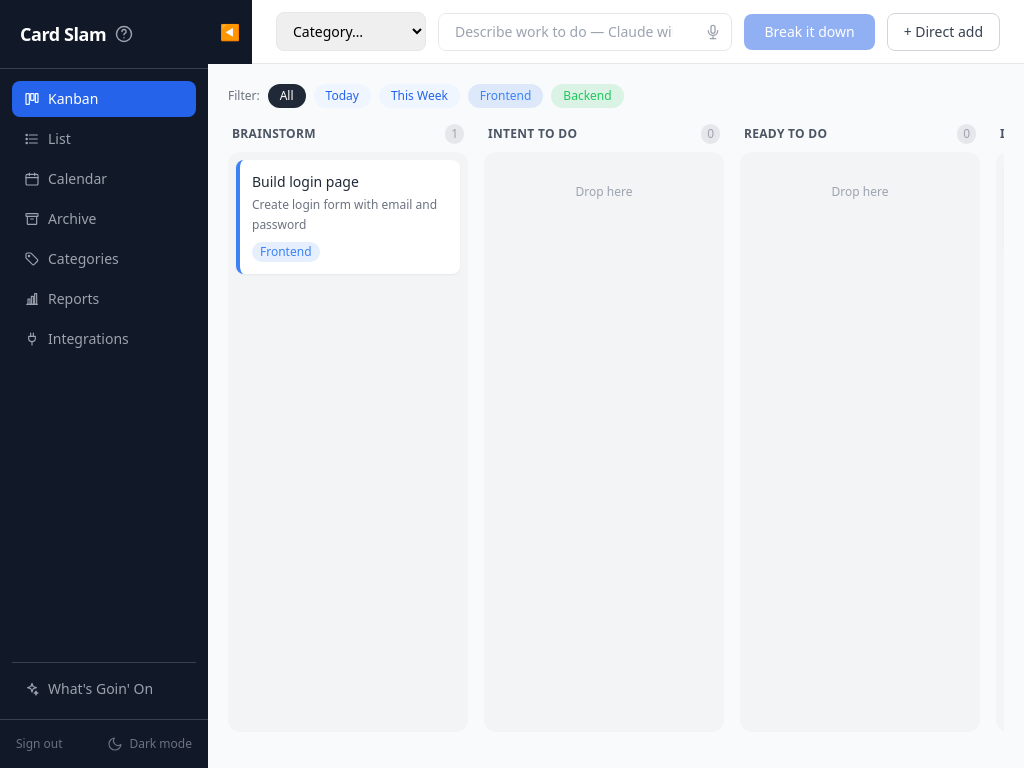
Scenario: Layout sidebar › shows a help icon next to the Card Slam title that opens the tutorial modal
Click the button named "open getting started tutorial": (124, 34) [114,24,134,44]
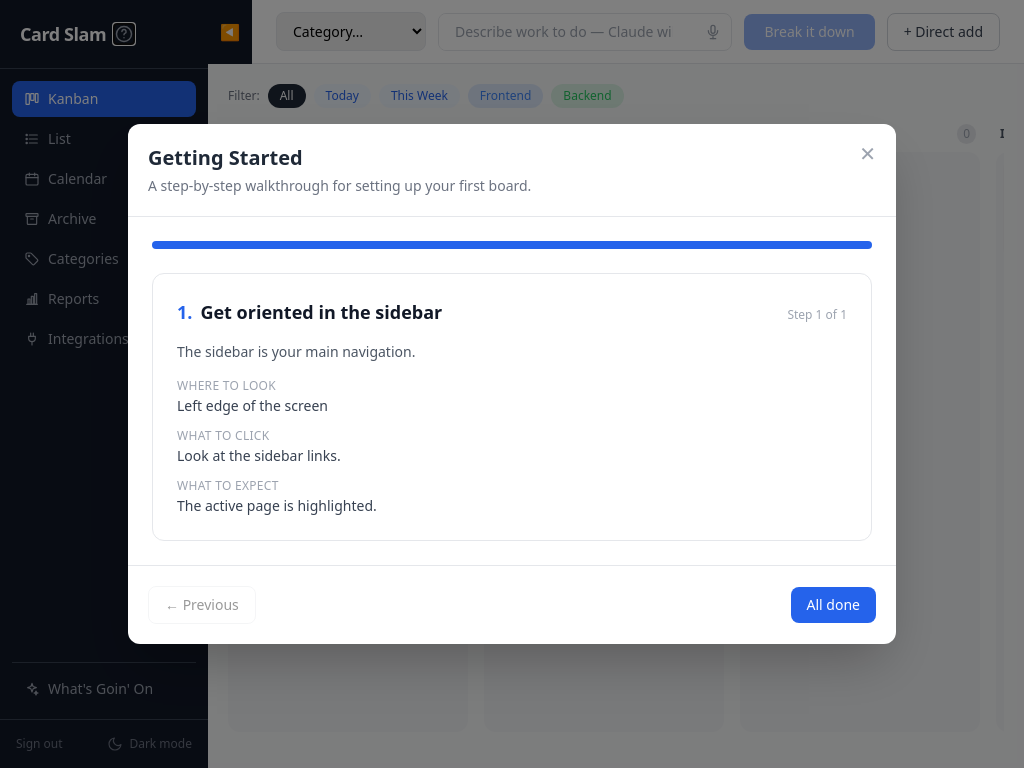
Check: the dialog with test id "onboarding-modal" is shown
